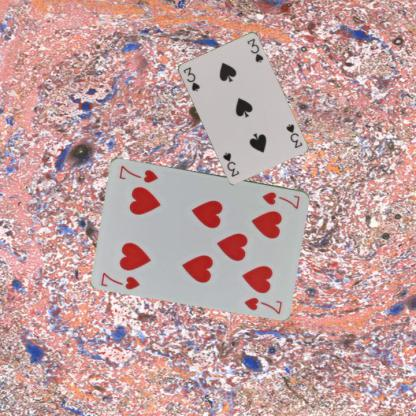3s: (180, 65, 201, 92), (283, 121, 303, 149)
7h: (98, 269, 141, 291), (260, 189, 301, 210)
